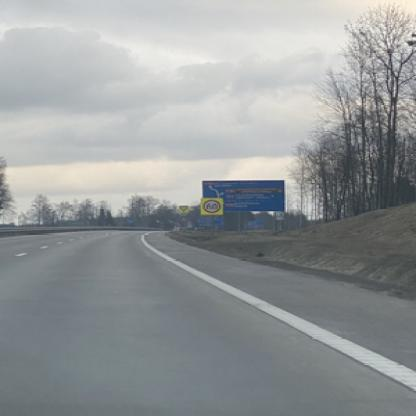speedlimit: (201, 198, 219, 212)
